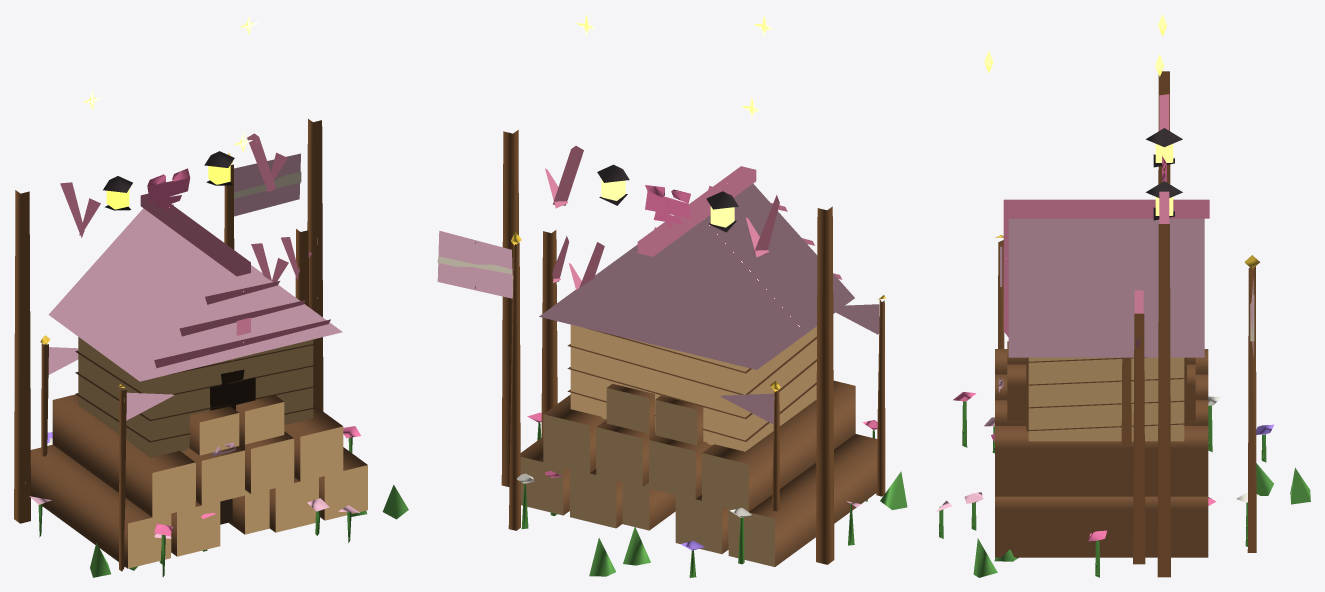
Rendered from opossum-woodpile-hollow-blocky_lod1.glb.
3 renders of one model, left to right at view 1: azimuth 30°, elevation 25°; view 2: azimuth 150°, elevation 25°; view 3: azimuth 270°, elevation 25°, orthographic. The views are drawn at different scales.
Visible parts, largest first — view 1: lv3, lv2; view 2: lv3, lv2; view 3: lv3, lv2, lv1.
Boxes of the visible parts, x1,y1,x2,y2 form: lv3: (14, 14, 408, 577); lv2: (40, 229, 366, 570); lv3: (437, 14, 907, 577); lv2: (541, 230, 867, 565); lv3: (936, 14, 1310, 577); lv2: (964, 290, 1273, 564); lv1: (991, 357, 1131, 445).
Size of the model in its own units: 1.63 by 2.15 by 1.49.
